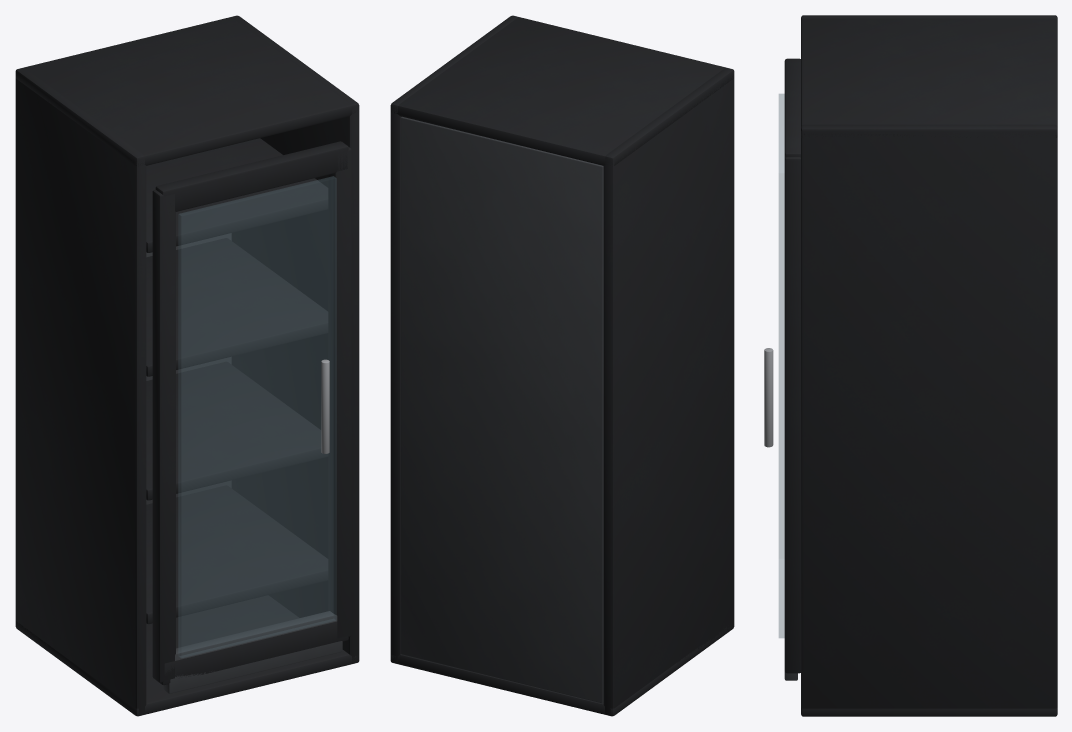
File: pf_display_drink_refrigerator_t1.glb
The picture shows the model from 3 angles, left to right: view 1: azimuth 30°, elevation 25°; view 2: azimuth 150°, elevation 25°; view 3: azimuth 270°, elevation 25°; orthographic projection. The views are drawn at different scales.
Visible parts, largest first — view 1: Case_Left, Door_Glass_01, Case_Top, Case_Right, Shelf_01, Shelf_03, Shelf_02, Door_Frame_01_L, Door_Frame_01_R, Shelf_04, Case_Base, Door_Frame_01_Top (+4 smaller); view 2: Case_Back, Case_Left, Case_Top, Case_Right, Case_Base; view 3: Case_Right, Case_Top, Door_Frame_01_R, Door_Glass_01, Case_Base, Door_Frame_01_Top, Case_Left, Door_Handle_01.
Part boxes in pixels (x1,y1,x2,y2): Case_Left: [15, 67, 146, 716]; Door_Glass_01: [178, 176, 336, 657]; Case_Top: [15, 17, 359, 166]; Case_Right: [231, 15, 359, 663]; Shelf_01: [146, 485, 328, 624]; Shelf_03: [146, 238, 328, 376]; Shelf_02: [146, 361, 328, 500]; Door_Frame_01_L: [152, 189, 175, 682]; Door_Frame_01_R: [328, 146, 351, 638]; Shelf_04: [146, 138, 328, 252]; Case_Base: [15, 595, 357, 715]; Door_Frame_01_Top: [155, 141, 348, 211]; Case_Back: [401, 116, 603, 703]; Case_Left: [603, 67, 734, 716]; Case_Top: [390, 17, 734, 165]; Case_Right: [390, 15, 517, 663]; Case_Base: [390, 624, 734, 715]; Case_Right: [801, 124, 1057, 716]; Case_Top: [801, 18, 1057, 137]; Door_Frame_01_R: [784, 157, 800, 671]; Door_Glass_01: [779, 94, 784, 637]; Case_Base: [801, 708, 1057, 716]; Door_Frame_01_Top: [784, 58, 800, 157]; Case_Left: [801, 15, 1057, 19]; Door_Handle_01: [764, 348, 773, 447].
Size of the model in its own units: 0.72 by 1.72 by 0.777.
Materials: 5 (2 with a texture image).
